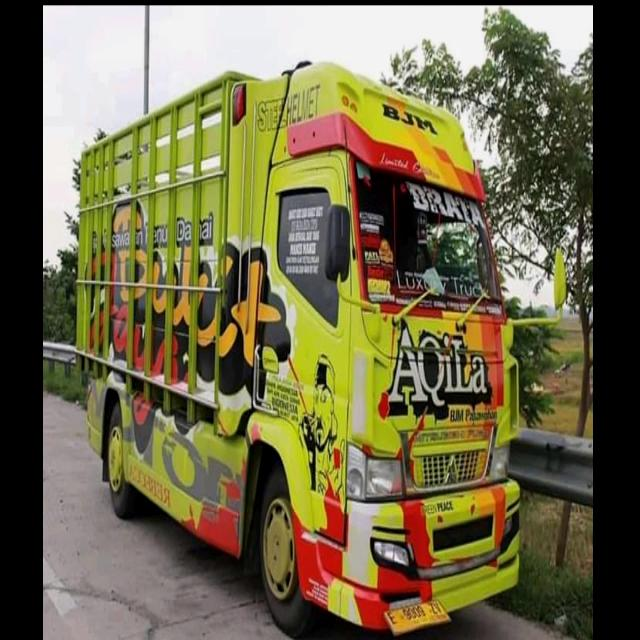truck: (74, 58, 572, 640)
